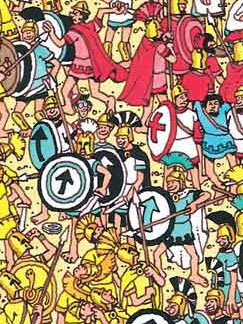waldo: (67, 91, 90, 119)
